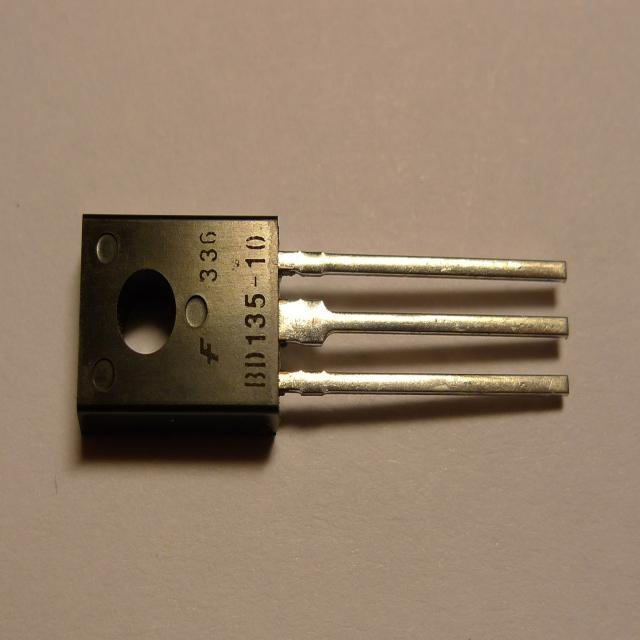Transistor: (61, 205, 584, 458)
